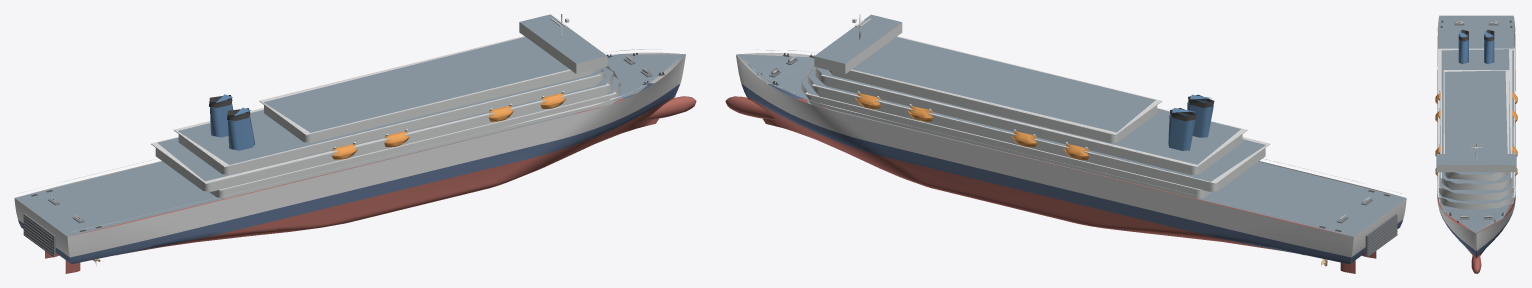
File: ferry.glb
The picture shows the model from 3 angles, left to right: view 1: azimuth 30°, elevation 25°; view 2: azimuth 150°, elevation 25°; view 3: azimuth 270°, elevation 25°; orthographic projection. The views are drawn at different scales.
Bounding box in the file's own units: 189 × 36.4 × 29.1.
